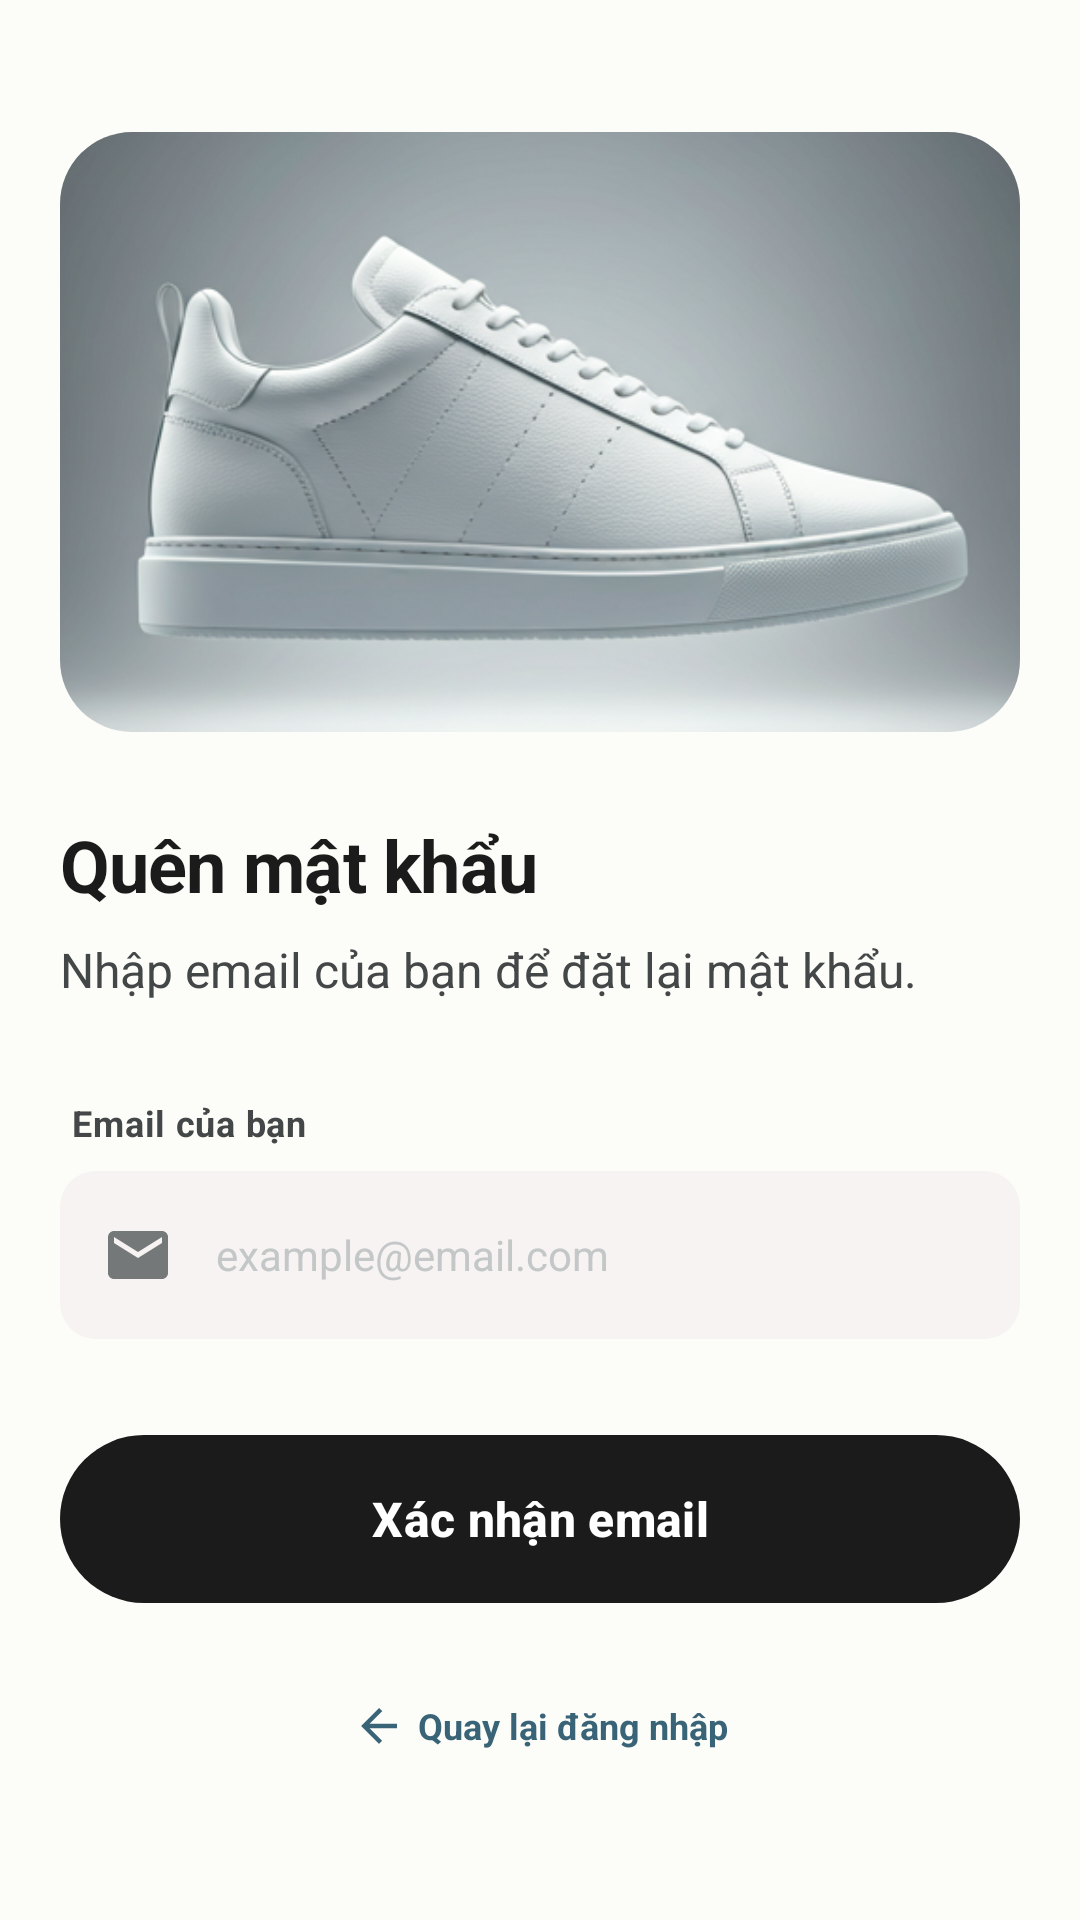

Where icons sit on this 1080 x 1920 app screen, as (x1, y1, x2, y2):
Back: (361, 1708, 397, 1744)
